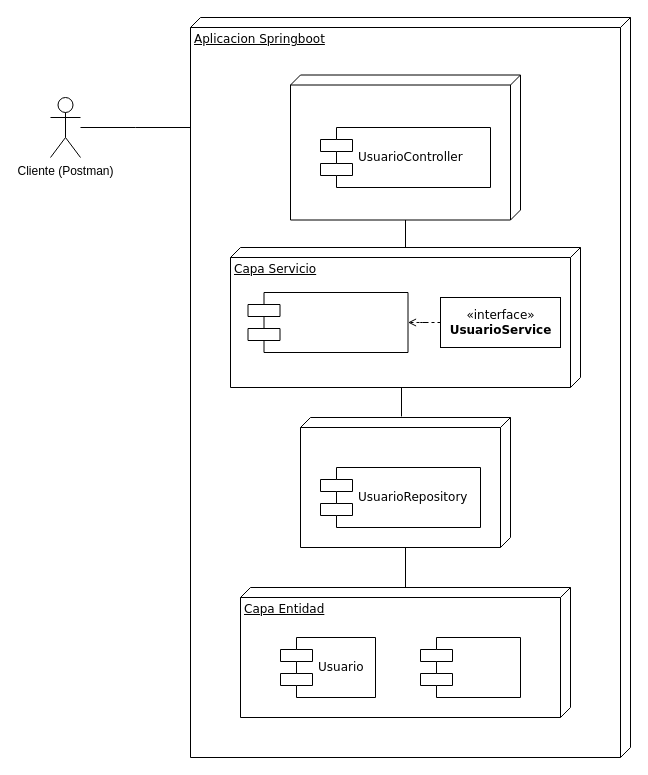
This 648x775 diagram has some shape labels left out. Each missing label, with the box of its shape:
Capa Controlador: (290, 74, 520, 220)
Capa Repositorio: (300, 416, 510, 548)
Telefono: (420, 636, 520, 698)
UsuarioServiceImp: (247, 292, 408, 352)
